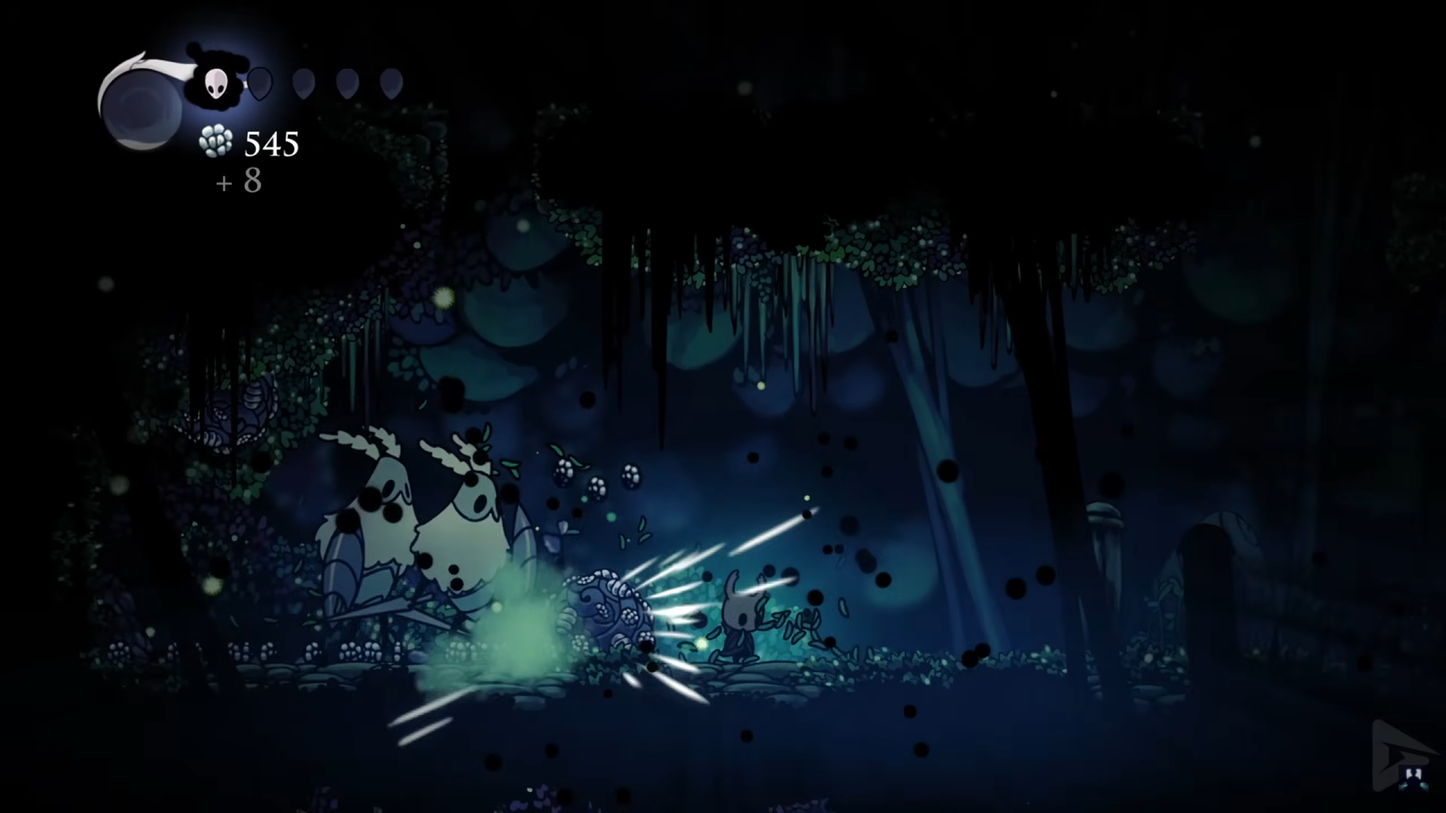HK: (706, 568, 766, 668)
